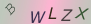B: (4, 2, 17, 16)
L: (47, 6, 58, 20)
W: (29, 11, 46, 24)
X: (75, 7, 89, 20)
Z: (60, 8, 73, 22)
